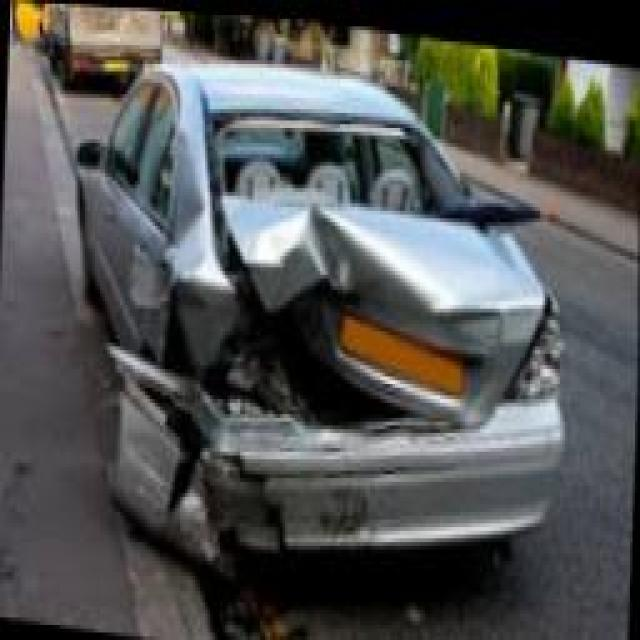Bumper: (110, 343, 555, 540)
Dickey: (211, 121, 549, 418)
Light: (503, 295, 566, 396), (222, 305, 273, 395)
Windshield: (214, 119, 456, 201)
